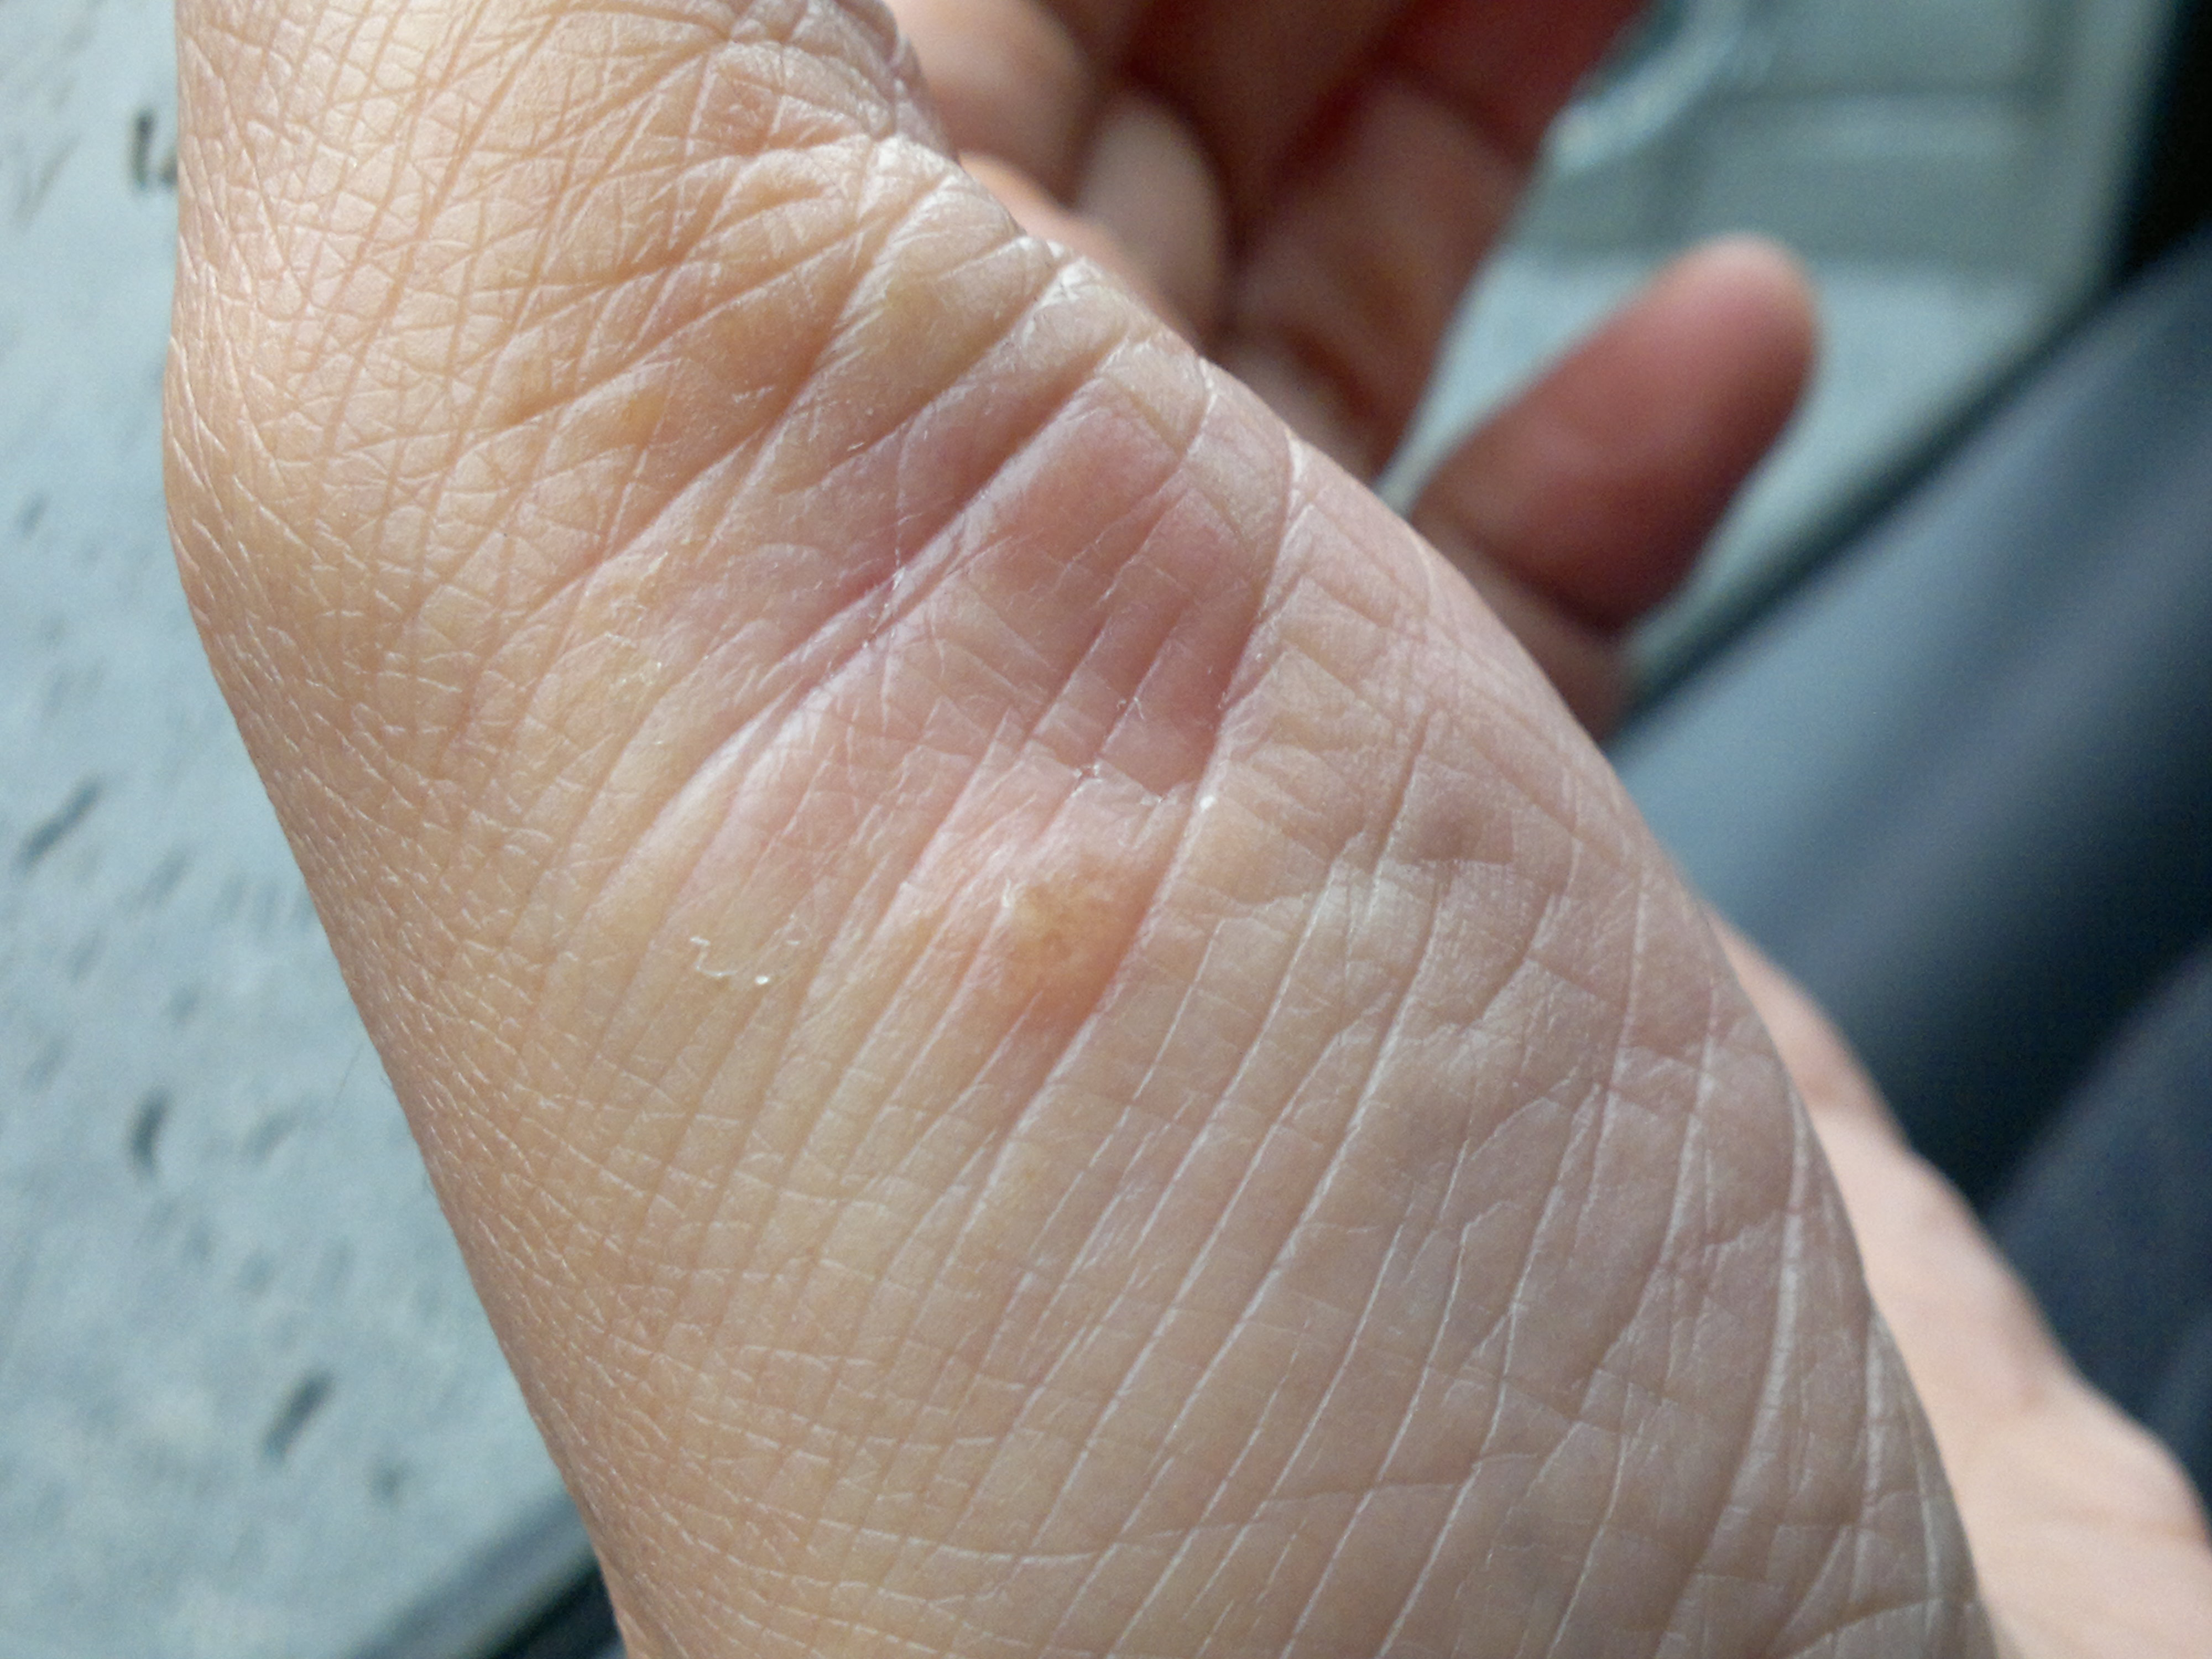Diseased: (308, 40, 1350, 1032)
